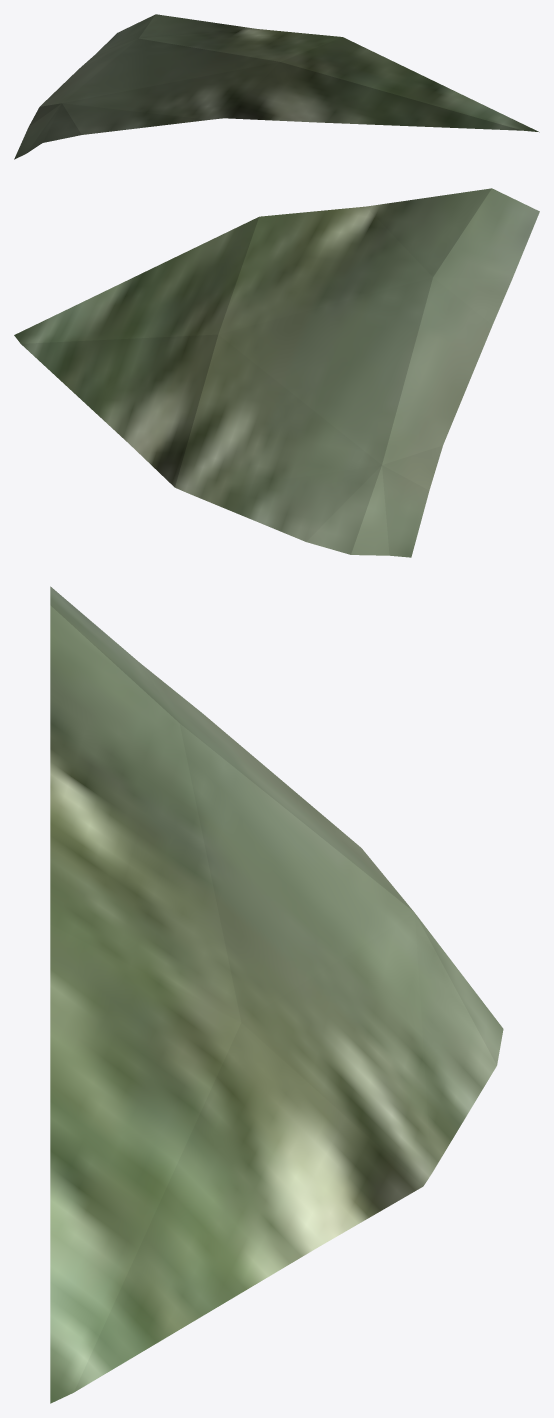
The picture shows the model from 3 angles, top to bottom: view 1: azimuth 30°, elevation 25°; view 2: azimuth 150°, elevation 25°; view 3: azimuth 270°, elevation 25°; orthographic projection. The views are drawn at different scales.
Bounding box in the file's own units: 5.56 × 2.66 × 2.58.
1 material, 1 textured.
